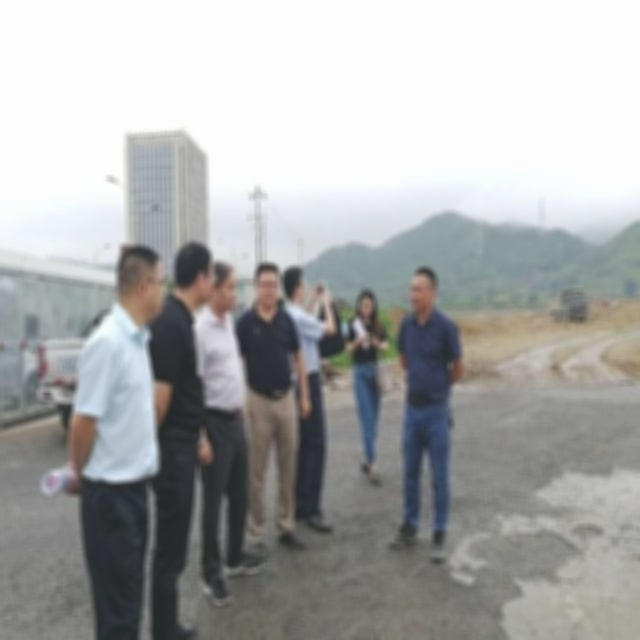Sin_Casco_Mascarrilla: (114, 246, 169, 324), (407, 265, 441, 315), (252, 264, 282, 309)
Sin_Chaleco: (195, 312, 244, 411)
